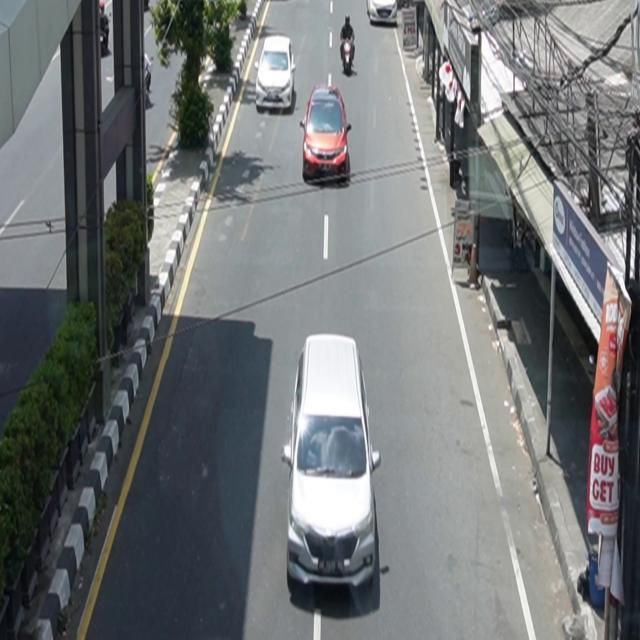car: (282, 334, 382, 596), (301, 84, 353, 183), (256, 35, 297, 113), (366, 1, 398, 25)
